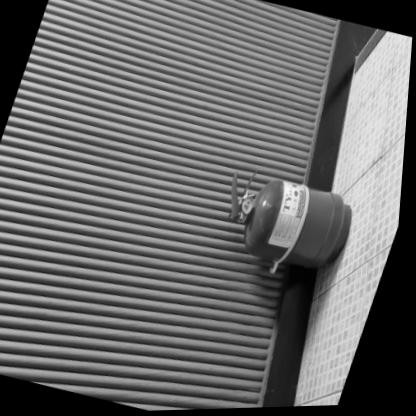FE: (209, 164, 367, 286)
